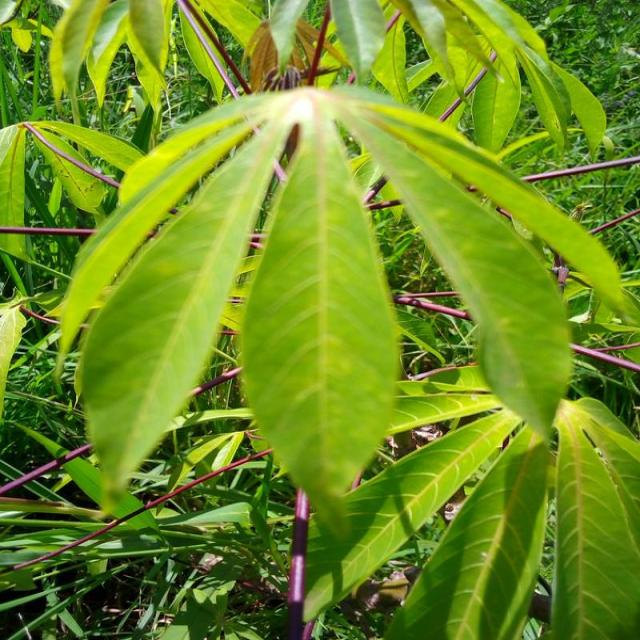cassava leaf: (74, 118, 284, 516), (240, 101, 402, 539)
